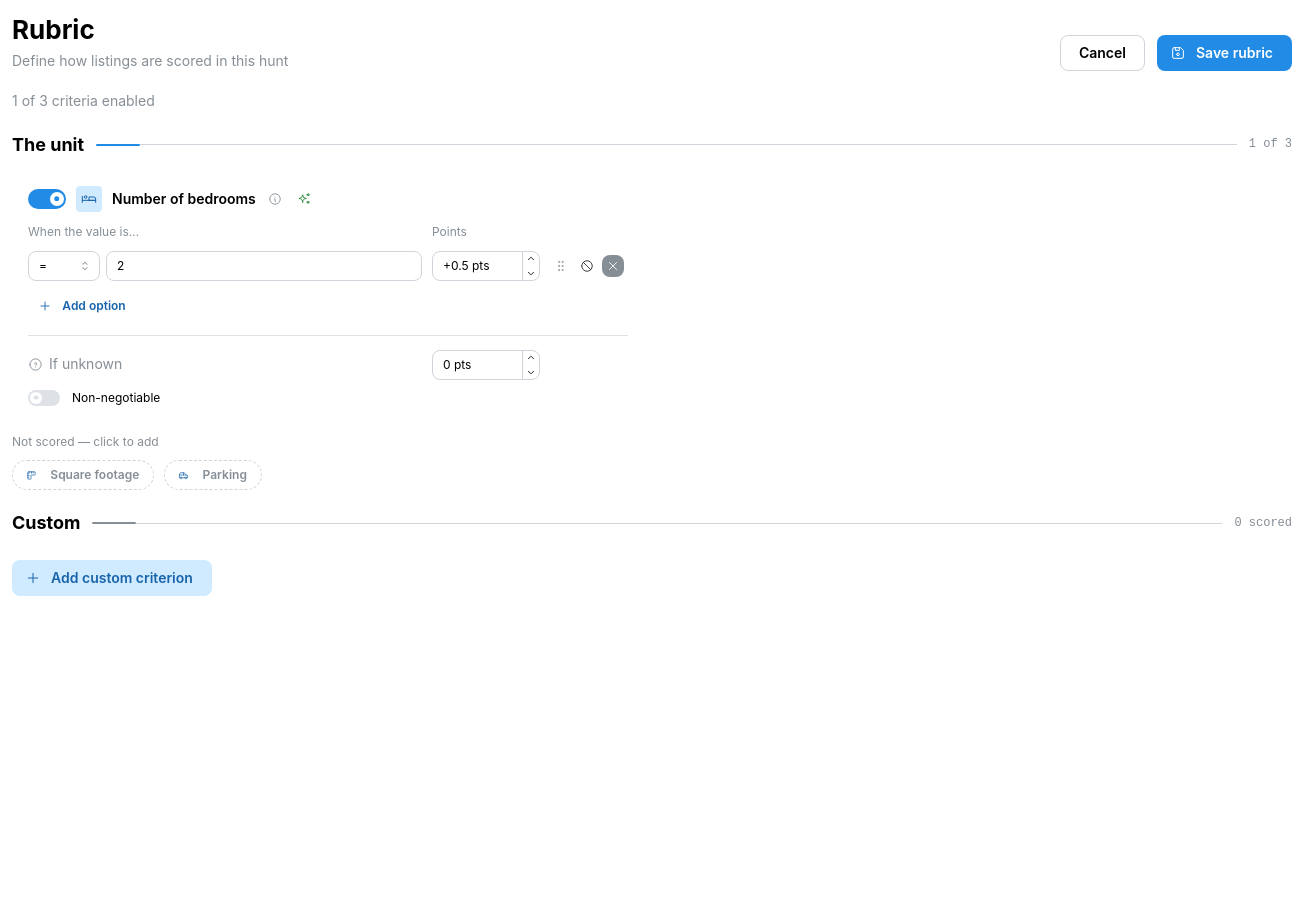
Test: RubricEditor › marks a toggled criterion Modified and reverts it independently of the rest of the draft
The width and height of the screenshot is (1304, 912).
Click the button "Square footage". click: click(83, 475)
box: [12,460,154,490]
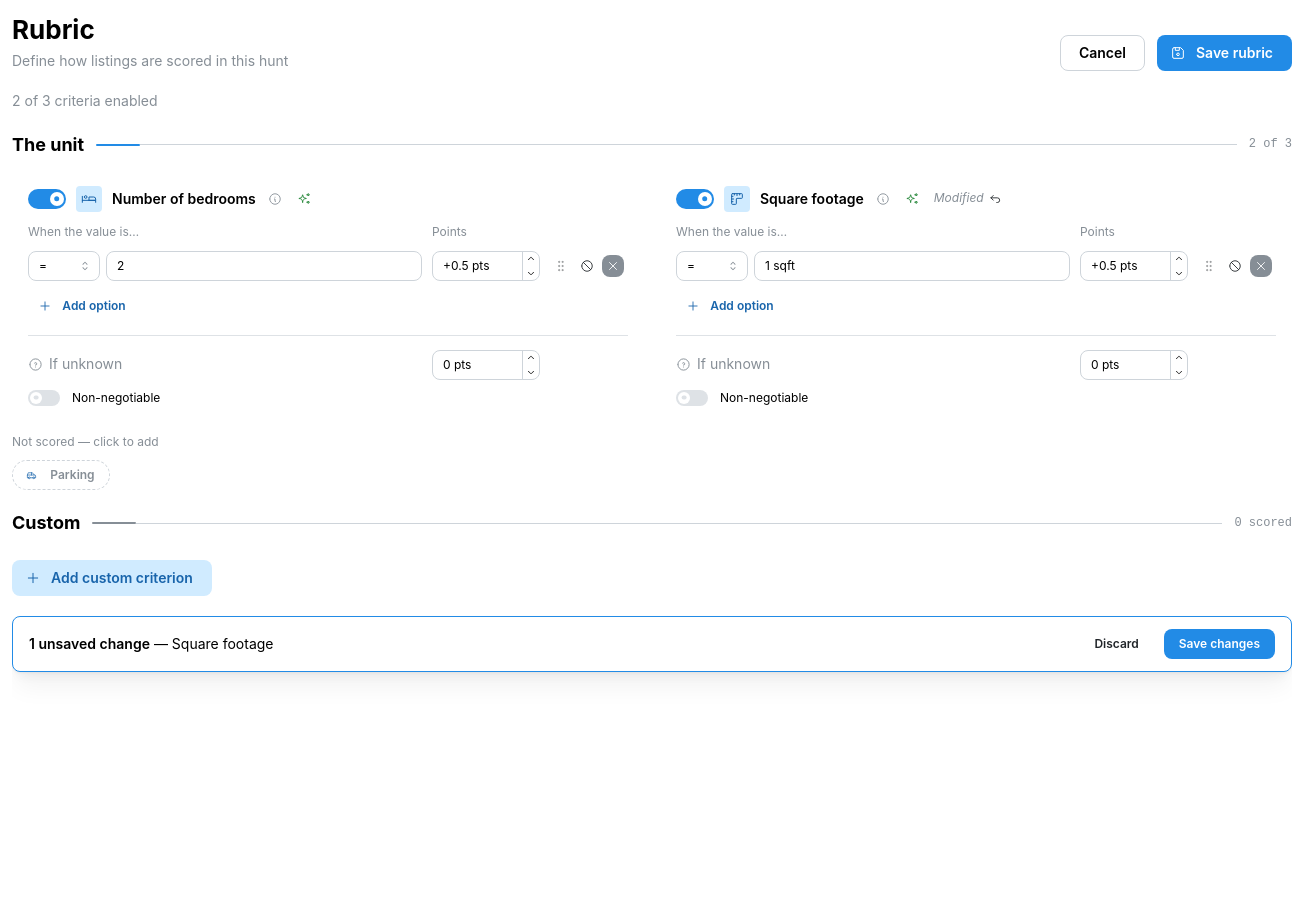
Now the text "Modified" is shown, box [934,190,984,207]
Click the button named "revert to saved". click: click(995, 199)
box: [986,190,1004,208]
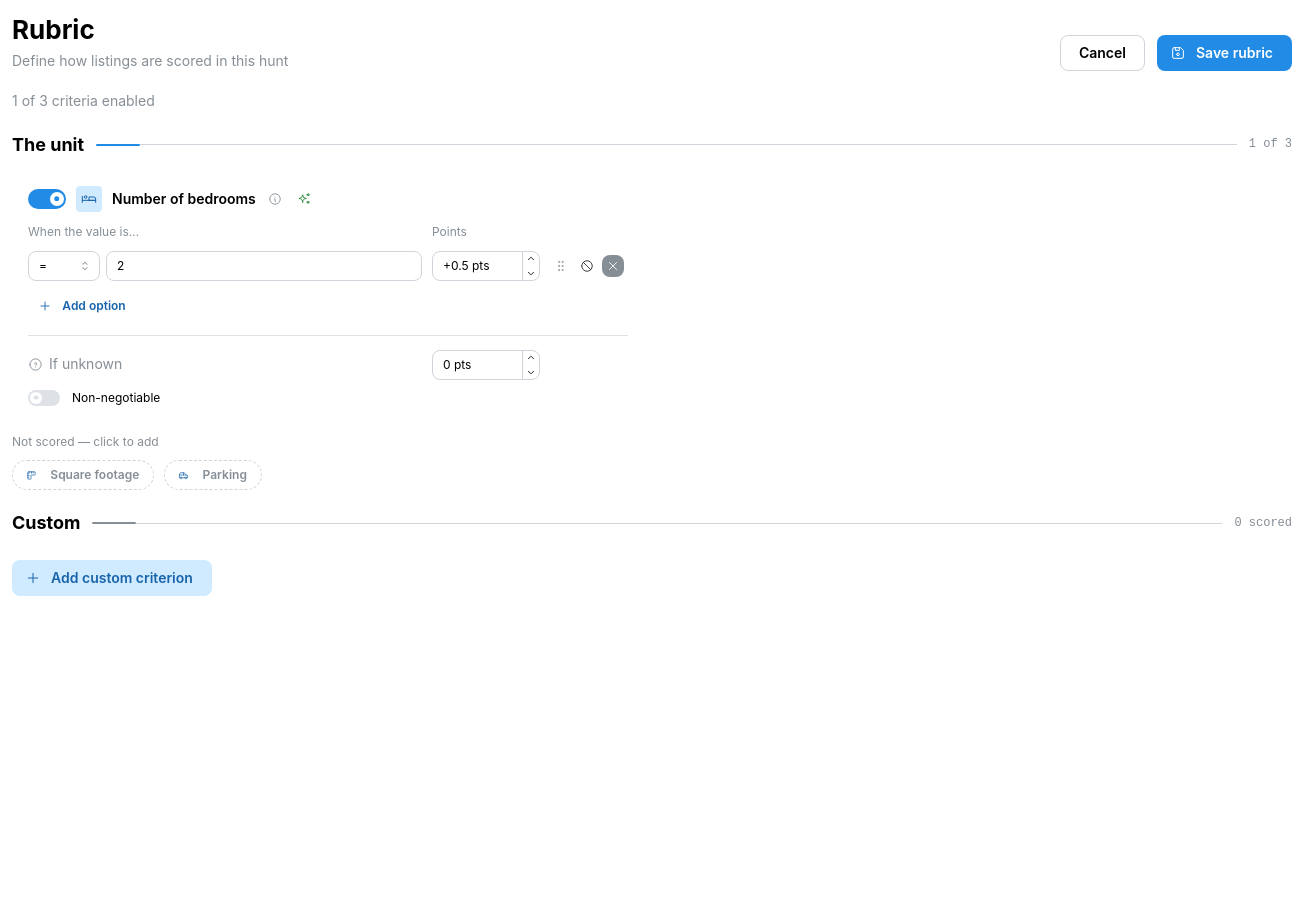
Expected: the button "Square footage" is shown, [12,460,154,490]
Now the text "Modified" is gone
Now the text "unsaved change" is gone
